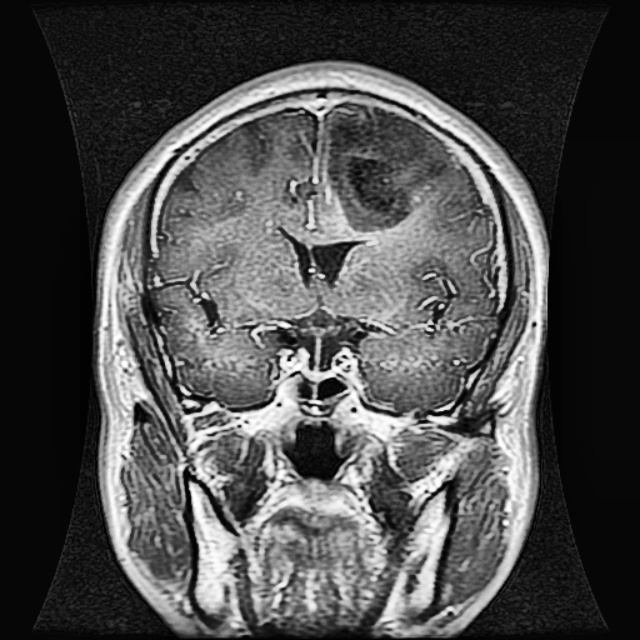Meningioma: (320, 100, 453, 233)
